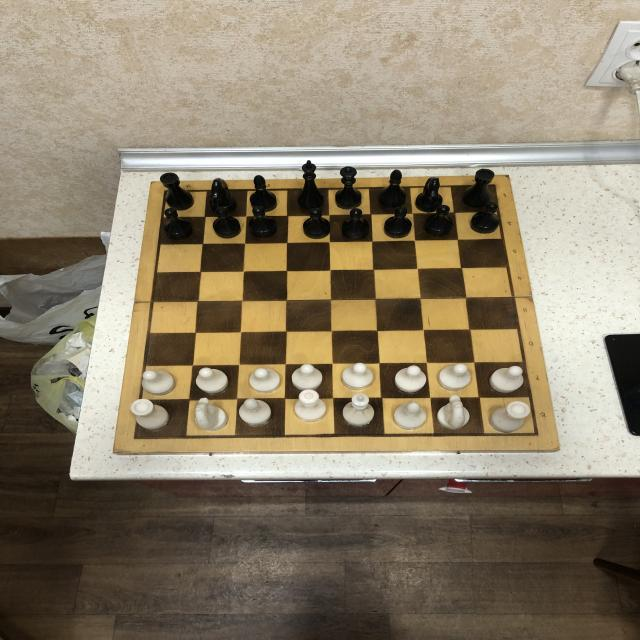chess-table-corners: (524, 426, 548, 442), (126, 430, 145, 445), (491, 181, 504, 191), (157, 190, 166, 194)
